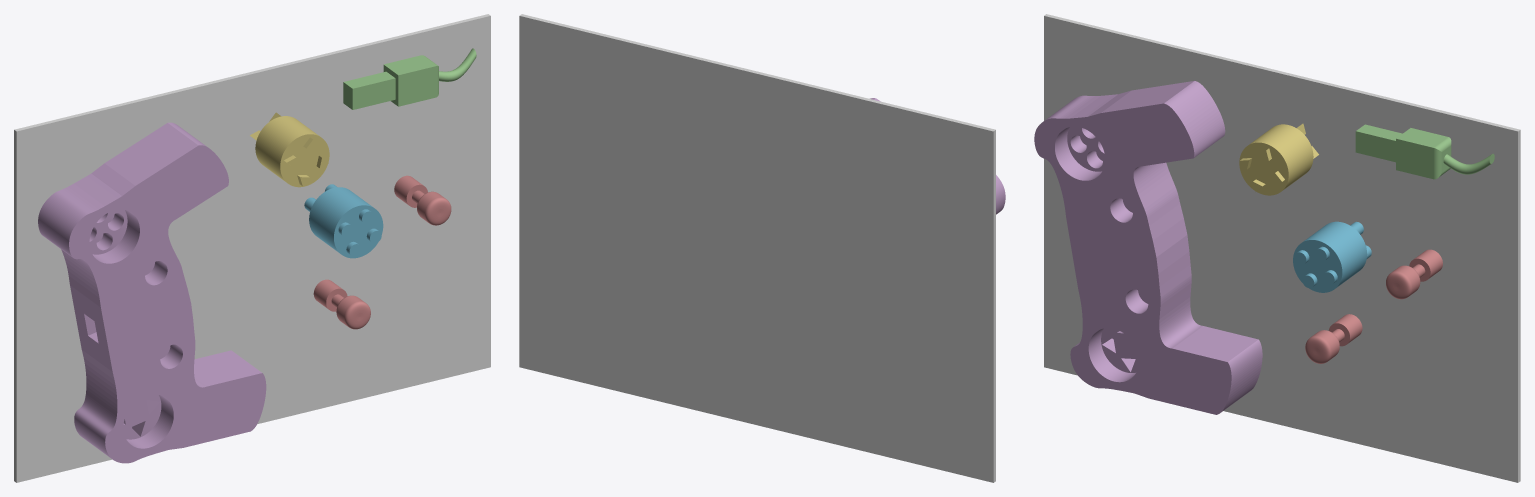
Rendered from pickup_layout.glb.
The picture shows the model from 3 angles, left to right: view 1: azimuth 30°, elevation 25°; view 2: azimuth 150°, elevation 25°; view 3: azimuth 330°, elevation 25°; orthographic projection.
Parts seen in each view (by area): view 1: world, 3.obj, 4.obj, 2.obj, 1.obj, 5.obj, 0.obj; view 2: world; view 3: world, 3.obj, 4.obj, 2.obj, 1.obj, 5.obj, 0.obj.
Part boxes in pixels (x1,y1,x2,y2): world: (14, 14, 490, 482); 3.obj: (38, 122, 266, 463); 4.obj: (343, 48, 476, 109); 2.obj: (304, 184, 383, 258); 1.obj: (250, 112, 329, 187); 5.obj: (313, 279, 370, 329); 0.obj: (394, 175, 451, 225); world: (519, 14, 995, 482); world: (1044, 14, 1520, 482); 3.obj: (1034, 81, 1262, 414); 4.obj: (1355, 124, 1494, 179); 2.obj: (1293, 221, 1371, 292); 1.obj: (1239, 123, 1318, 195); 5.obj: (1305, 314, 1362, 363); 0.obj: (1386, 249, 1442, 299).
Bounding box in the file's own units: 22.09 × 15.65 × 3.2.
